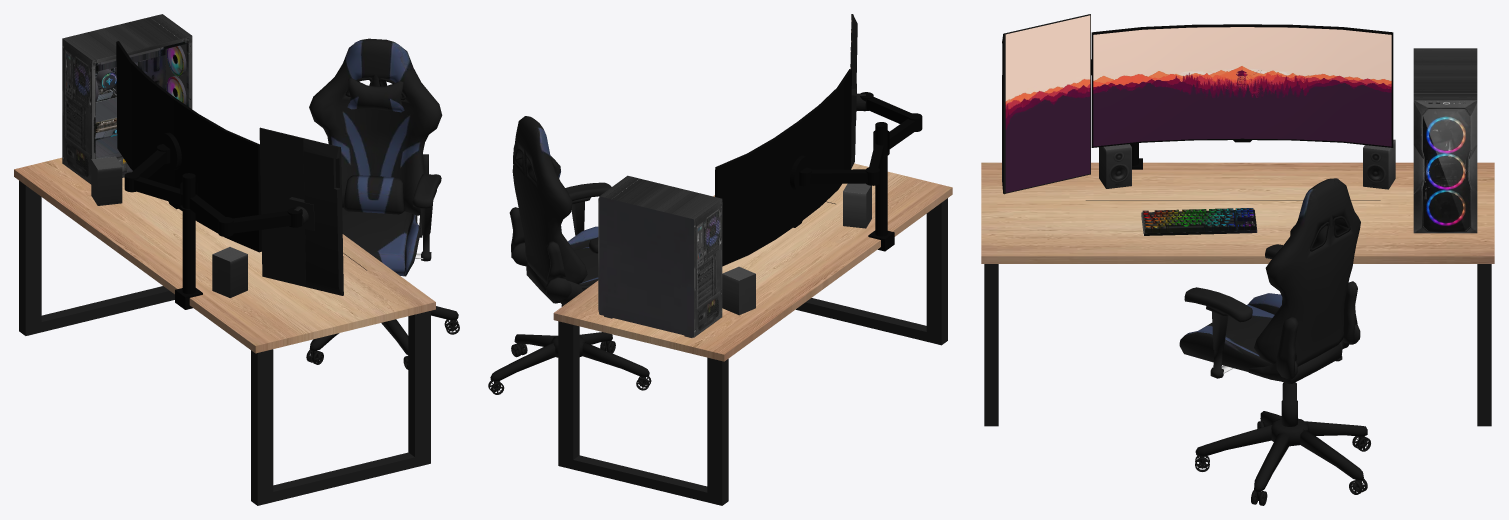
File: setup_3D-transformed.glb
3 renders of one model, left to right at view 1: azimuth 30°, elevation 25°; view 2: azimuth 150°, elevation 25°; view 3: azimuth 270°, elevation 25°, orthographic. The views are drawn at different scales.
Visible parts, largest first — view 1: desk_Material.002_0, desk_Material.001_0, whole_boundary_Plane.004_chair_material_0, Plane_Plane.001_Material.011_0, Plane_Plane.001_Material.019_0, Plane.001_Material.005_0, whole_boundary_Plane.004_plastic_0, Cube.003, Cube.004, Cube.002, Plane_Plane.001_Material.018_0, Cube.005; view 2: desk_Material.002_0, desk_Material.001_0, Plane_Plane.001_Material.011_0, whole_boundary_Plane.004_chair_material_0, whole_boundary_Plane.004_plastic_0, Plane_Plane.001_Material.019_0, Plane.001_Material.005_0, Cube.005, Cube.003, Cube.002, Cube.004; view 3: desk_Material.001_0, Plane.006_Material.009_0, whole_boundary_Plane.004_chair_material_0, Cylinder_screen.002_0, Plane_Plane.001_Material.020_0, desk_Material.002_0, whole_boundary_Plane.004_plastic_0, Plane_Plane.001_Material.011_0, Plane_Material.003_0, Plane.001_Material.005_0.
Part boxes in pixels (x1=…): desk_Material.002_0: x1=19, y1=41, x2=430, y2=505; desk_Material.001_0: x1=14, y1=157, x2=435, y2=353; whole_boundary_Plane.004_chair_material_0: x1=309, y1=38, x2=442, y2=276; Plane_Plane.001_Material.011_0: x1=62, y1=14, x2=192, y2=177; Plane_Plane.001_Material.019_0: x1=62, y1=38, x2=92, y2=184; Plane.001_Material.005_0: x1=91, y1=156, x2=247, y2=297; whole_boundary_Plane.004_plastic_0: x1=306, y1=77, x2=459, y2=369; Cube.003: x1=232, y1=207, x2=302, y2=233; Cube.004: x1=124, y1=172, x2=182, y2=205; Cube.002: x1=189, y1=194, x2=233, y2=236; Plane_Plane.001_Material.018_0: x1=166, y1=46, x2=183, y2=102; Cube.005: x1=132, y1=144, x2=170, y2=178; desk_Material.002_0: x1=558, y1=14, x2=947, y2=505; desk_Material.001_0: x1=553, y1=163, x2=952, y2=361; Plane_Plane.001_Material.011_0: x1=599, y1=175, x2=721, y2=337; whole_boundary_Plane.004_chair_material_0: x1=509, y1=116, x2=611, y2=304; whole_boundary_Plane.004_plastic_0: x1=488, y1=148, x2=651, y2=394; Plane_Plane.001_Material.019_0: x1=694, y1=199, x2=722, y2=337; Plane.001_Material.005_0: x1=722, y1=183, x2=871, y2=315; Cube.005: x1=799, y1=167, x2=867, y2=186; Cube.003: x1=860, y1=92, x2=911, y2=123; Cube.002: x1=889, y1=113, x2=922, y2=148; Cube.004: x1=865, y1=142, x2=883, y2=185; desk_Material.001_0: x1=981, y1=162, x2=1494, y2=263; Plane.006_Material.009_0: x1=1093, y1=27, x2=1391, y2=146; whole_boundary_Plane.004_chair_material_0: x1=1179, y1=178, x2=1360, y2=384; Cylinder_screen.002_0: x1=1005, y1=15, x2=1090, y2=192; Plane_Plane.001_Material.020_0: x1=1413, y1=100, x2=1477, y2=233; desk_Material.002_0: x1=984, y1=14, x2=1491, y2=426; whole_boundary_Plane.004_plastic_0: x1=1195, y1=216, x2=1370, y2=505; Plane_Plane.001_Material.011_0: x1=1413, y1=48, x2=1477, y2=100; Plane_Material.003_0: x1=1141, y1=208, x2=1257, y2=235; Plane.001_Material.005_0: x1=1099, y1=139, x2=1395, y2=189.
Bounding box in the file's own units: 6.04 × 5.27 × 7.
Materials: 14 (14 with a texture image).
